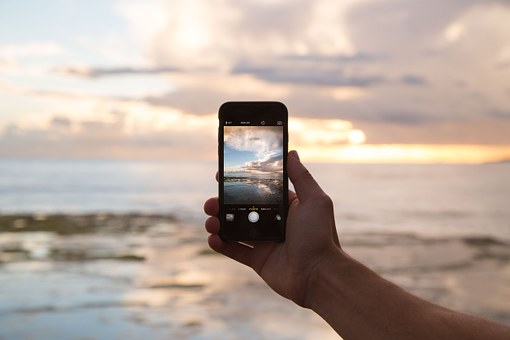mobile: (202, 92, 300, 259)
